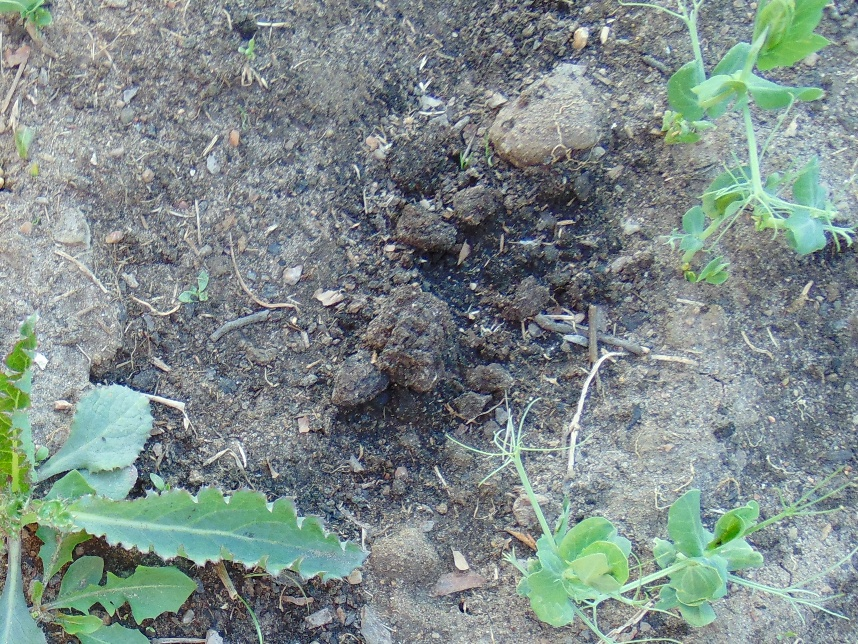crop: (487, 425, 834, 644), (649, 1, 858, 285), (1, 1, 52, 30)
weed: (2, 314, 372, 644), (14, 126, 42, 175), (178, 270, 213, 303)
